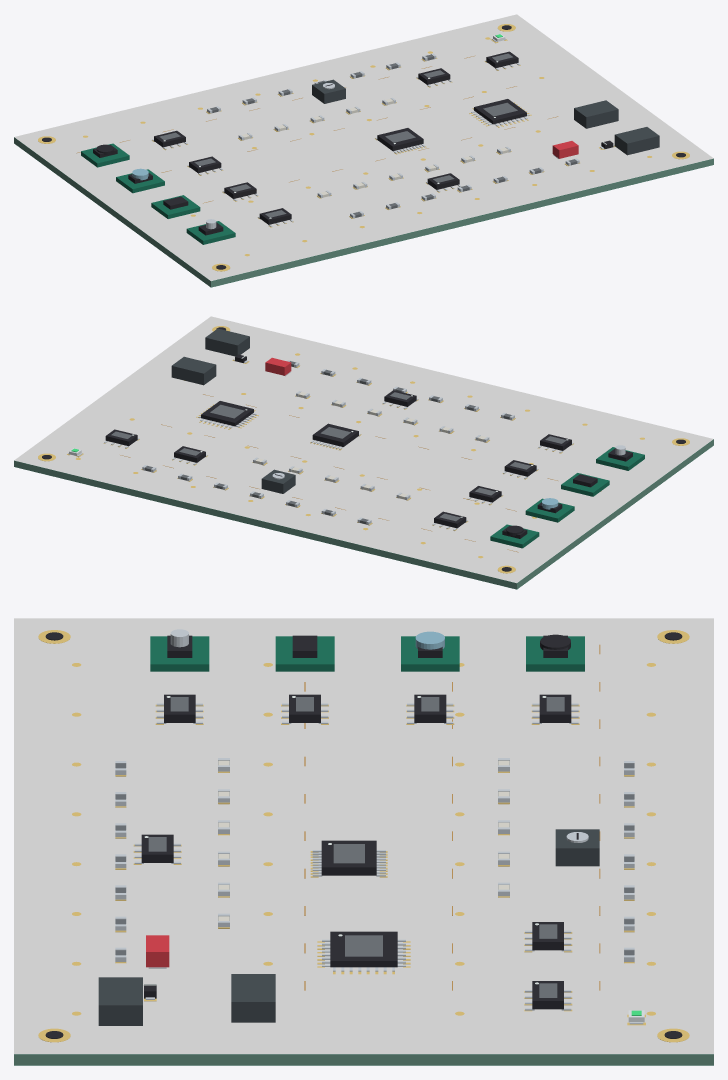
The model's file is L96_COMPLETE_REFERENCE_VISUAL_ONLY.fbx.
The picture shows the model from 3 angles, top to bottom: view 1: azimuth 30°, elevation 25°; view 2: azimuth 150°, elevation 25°; view 3: azimuth 270°, elevation 25°; orthographic projection. The views are drawn at different scales.
Visible parts, largest first — view 1: L96_SMX4_COMPLETE_REFERENCE_VISUAL_ONLY_259_PCB_FactoryScree, L96_SMX4_COMPLETE_REFERENCE_VISUAL_ONLY_000_FR4_Substrate_1p, L96_SMX4_COMPLETE_REFERENCE_VISUAL_ONLY_549_Connector_Housin, L96_SMX4_COMPLETE_REFERENCE_VISUAL_ONLY_554_Connector_Housin, L96_SMX4_COMPLETE_REFERENCE_VISUAL_ONLY_338_Molded_Encapsula, L96_SMX4_COMPLETE_REFERENCE_VISUAL_ONLY_559_Calibration_Trim, L96_SMX4_COMPLETE_REFERENCE_VISUAL_ONLY_527_Mini_Module_PCB, L96_SMX4_COMPLETE_REFERENCE_VISUAL_ONLY_520_Mini_Module_PCB, L96_SMX4_COMPLETE_REFERENCE_VISUAL_ONLY_542_Mini_Module_PCB, L96_SMX4_COMPLETE_REFERENCE_VISUAL_ONLY_260_Molded_Encapsula, L96_SMX4_COMPLETE_REFERENCE_VISUAL_ONLY_535_Mini_Module_PCB; view 2: L96_SMX4_COMPLETE_REFERENCE_VISUAL_ONLY_259_PCB_FactoryScree, L96_SMX4_COMPLETE_REFERENCE_VISUAL_ONLY_000_FR4_Substrate_1p, L96_SMX4_COMPLETE_REFERENCE_VISUAL_ONLY_554_Connector_Housin, L96_SMX4_COMPLETE_REFERENCE_VISUAL_ONLY_549_Connector_Housin, L96_SMX4_COMPLETE_REFERENCE_VISUAL_ONLY_338_Molded_Encapsula, L96_SMX4_COMPLETE_REFERENCE_VISUAL_ONLY_559_Calibration_Trim, L96_SMX4_COMPLETE_REFERENCE_VISUAL_ONLY_527_Mini_Module_PCB, L96_SMX4_COMPLETE_REFERENCE_VISUAL_ONLY_520_Mini_Module_PCB, L96_SMX4_COMPLETE_REFERENCE_VISUAL_ONLY_542_Mini_Module_PCB, L96_SMX4_COMPLETE_REFERENCE_VISUAL_ONLY_260_Molded_Encapsula, L96_SMX4_COMPLETE_REFERENCE_VISUAL_ONLY_535_Mini_Module_PCB; view 3: L96_SMX4_COMPLETE_REFERENCE_VISUAL_ONLY_259_PCB_FactoryScree, L96_SMX4_COMPLETE_REFERENCE_VISUAL_ONLY_000_FR4_Substrate_1p, L96_SMX4_COMPLETE_REFERENCE_VISUAL_ONLY_549_Connector_Housin, L96_SMX4_COMPLETE_REFERENCE_VISUAL_ONLY_554_Connector_Housin, L96_SMX4_COMPLETE_REFERENCE_VISUAL_ONLY_338_Molded_Encapsula, L96_SMX4_COMPLETE_REFERENCE_VISUAL_ONLY_520_Mini_Module_PCB, L96_SMX4_COMPLETE_REFERENCE_VISUAL_ONLY_527_Mini_Module_PCB, L96_SMX4_COMPLETE_REFERENCE_VISUAL_ONLY_535_Mini_Module_PCB, L96_SMX4_COMPLETE_REFERENCE_VISUAL_ONLY_542_Mini_Module_PCB, L96_SMX4_COMPLETE_REFERENCE_VISUAL_ONLY_559_Calibration_Trim, L96_SMX4_COMPLETE_REFERENCE_VISUAL_ONLY_260_Molded_Encapsula, L96_SMX4_COMPLETE_REFERENCE_VISUAL_ONLY_339_LaserMark_Panel (+6 smaller).
Boxes of the visible parts, <box> form: L96_SMX4_COMPLETE_REFERENCE_VISUAL_ONLY_259_PCB_FactoryScree: <box>14,14,713,281</box>; L96_SMX4_COMPLETE_REFERENCE_VISUAL_ONLY_000_FR4_Substrate_1p: <box>14,137,713,287</box>; L96_SMX4_COMPLETE_REFERENCE_VISUAL_ONLY_549_Connector_Housin: <box>614,127,659,155</box>; L96_SMX4_COMPLETE_REFERENCE_VISUAL_ONLY_554_Connector_Housin: <box>574,100,618,128</box>; L96_SMX4_COMPLETE_REFERENCE_VISUAL_ONLY_338_Molded_Encapsula: <box>474,99,526,124</box>; L96_SMX4_COMPLETE_REFERENCE_VISUAL_ONLY_559_Calibration_Trim: <box>312,79,345,103</box>; L96_SMX4_COMPLETE_REFERENCE_VISUAL_ONLY_527_Mini_Module_PCB: <box>151,195,200,218</box>; L96_SMX4_COMPLETE_REFERENCE_VISUAL_ONLY_520_Mini_Module_PCB: <box>186,221,235,244</box>; L96_SMX4_COMPLETE_REFERENCE_VISUAL_ONLY_542_Mini_Module_PCB: <box>81,143,129,167</box>; L96_SMX4_COMPLETE_REFERENCE_VISUAL_ONLY_260_Molded_Encapsula: <box>377,128,423,150</box>; L96_SMX4_COMPLETE_REFERENCE_VISUAL_ONLY_535_Mini_Module_PCB: <box>116,169,164,193</box>; L96_SMX4_COMPLETE_REFERENCE_VISUAL_ONLY_259_PCB_FactoryScree: <box>14,316,713,583</box>; L96_SMX4_COMPLETE_REFERENCE_VISUAL_ONLY_000_FR4_Substrate_1p: <box>14,439,713,589</box>; L96_SMX4_COMPLETE_REFERENCE_VISUAL_ONLY_554_Connector_Housin: <box>171,356,216,385</box>; L96_SMX4_COMPLETE_REFERENCE_VISUAL_ONLY_549_Connector_Housin: <box>205,328,249,356</box>; L96_SMX4_COMPLETE_REFERENCE_VISUAL_ONLY_338_Molded_Encapsula: <box>201,401,253,426</box>; L96_SMX4_COMPLETE_REFERENCE_VISUAL_ONLY_559_Calibration_Trim: <box>261,469,295,493</box>; L96_SMX4_COMPLETE_REFERENCE_VISUAL_ONLY_527_Mini_Module_PCB: <box>561,473,609,496</box>; L96_SMX4_COMPLETE_REFERENCE_VISUAL_ONLY_520_Mini_Module_PCB: <box>596,447,644,470</box>; L96_SMX4_COMPLETE_REFERENCE_VISUAL_ONLY_542_Mini_Module_PCB: <box>490,524,539,548</box>; L96_SMX4_COMPLETE_REFERENCE_VISUAL_ONLY_260_Molded_Encapsula: <box>312,423,358,446</box>; L96_SMX4_COMPLETE_REFERENCE_VISUAL_ONLY_535_Mini_Module_PCB: <box>525,498,574,522</box>; L96_SMX4_COMPLETE_REFERENCE_VISUAL_ONLY_259_PCB_FactoryScree: <box>14,618,713,1054</box>; L96_SMX4_COMPLETE_REFERENCE_VISUAL_ONLY_000_FR4_Substrate_1p: <box>14,1054,713,1065</box>; L96_SMX4_COMPLETE_REFERENCE_VISUAL_ONLY_549_Connector_Housin: <box>98,977,142,1025</box>; L96_SMX4_COMPLETE_REFERENCE_VISUAL_ONLY_554_Connector_Housin: <box>231,974,275,1022</box>; L96_SMX4_COMPLETE_REFERENCE_VISUAL_ONLY_338_Molded_Encapsula: <box>330,931,397,967</box>; L96_SMX4_COMPLETE_REFERENCE_VISUAL_ONLY_520_Mini_Module_PCB: <box>150,636,209,671</box>; L96_SMX4_COMPLETE_REFERENCE_VISUAL_ONLY_527_Mini_Module_PCB: <box>275,636,334,671</box>; L96_SMX4_COMPLETE_REFERENCE_VISUAL_ONLY_535_Mini_Module_PCB: <box>401,636,459,671</box>; L96_SMX4_COMPLETE_REFERENCE_VISUAL_ONLY_542_Mini_Module_PCB: <box>526,636,584,671</box>; L96_SMX4_COMPLETE_REFERENCE_VISUAL_ONLY_559_Calibration_Trim: <box>555,829,599,866</box>; L96_SMX4_COMPLETE_REFERENCE_VISUAL_ONLY_260_Molded_Encapsula: <box>321,840,376,875</box>; L96_SMX4_COMPLETE_REFERENCE_VISUAL_ONLY_339_LaserMark_Panel: <box>345,935,382,956</box>.
Size of the model in its own units: 14 by 0.5538 by 9.5.
